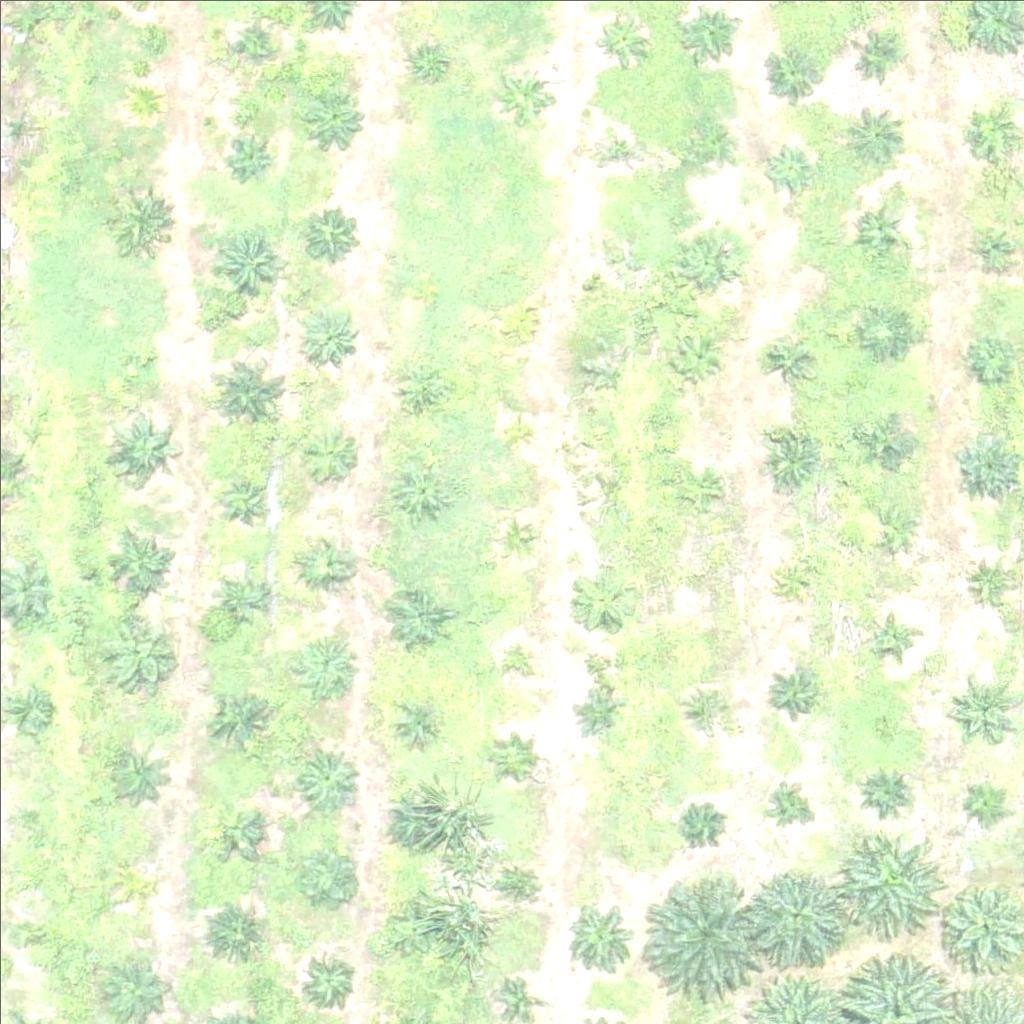Kelapa_Sawit: (635, 868, 760, 993), (838, 817, 950, 930), (749, 868, 849, 969), (203, 346, 290, 434), (107, 407, 182, 483), (293, 837, 368, 913), (212, 228, 287, 303), (561, 902, 636, 977), (301, 422, 364, 485), (296, 629, 359, 692), (298, 305, 361, 368), (107, 188, 170, 251), (840, 102, 903, 165), (955, 669, 1018, 732), (682, 231, 745, 294), (383, 586, 446, 649), (492, 63, 555, 126), (953, 433, 1016, 496), (387, 456, 450, 519), (382, 786, 445, 849), (102, 957, 165, 1020), (203, 902, 266, 965), (761, 33, 824, 96), (298, 745, 360, 808), (305, 85, 367, 148), (301, 202, 363, 265), (208, 685, 270, 748), (108, 528, 170, 591), (105, 619, 168, 681), (100, 740, 162, 803), (759, 429, 821, 492), (665, 328, 727, 391), (569, 568, 631, 631), (596, 14, 646, 65), (859, 306, 909, 357), (391, 694, 441, 745), (861, 424, 911, 475), (384, 900, 434, 951), (965, 559, 1015, 610), (964, 335, 1014, 386), (766, 335, 816, 386), (592, 120, 642, 171), (680, 122, 730, 173), (762, 145, 812, 196), (854, 203, 904, 254), (302, 536, 352, 586), (230, 127, 280, 177), (210, 806, 260, 856), (3, 685, 53, 735), (861, 767, 911, 817), (965, 102, 1015, 152), (767, 669, 817, 719), (397, 368, 447, 418), (302, 954, 352, 1004), (229, 13, 279, 63), (571, 690, 621, 740), (671, 465, 721, 515), (868, 505, 918, 555), (960, 772, 1010, 822), (851, 32, 901, 82), (969, 219, 1019, 269), (222, 474, 271, 525), (489, 737, 527, 775), (682, 809, 720, 847), (126, 82, 164, 120), (8, 2, 46, 40), (496, 636, 534, 674), (498, 517, 536, 555), (496, 410, 534, 448), (500, 310, 538, 348), (774, 563, 812, 601), (871, 618, 909, 656), (409, 39, 447, 77), (766, 783, 803, 821), (224, 578, 261, 616), (689, 685, 726, 723), (677, 556, 714, 594), (594, 258, 631, 296), (499, 976, 536, 1013), (495, 866, 532, 903), (14, 808, 39, 833), (14, 924, 39, 949), (119, 870, 144, 895), (129, 343, 154, 368)
